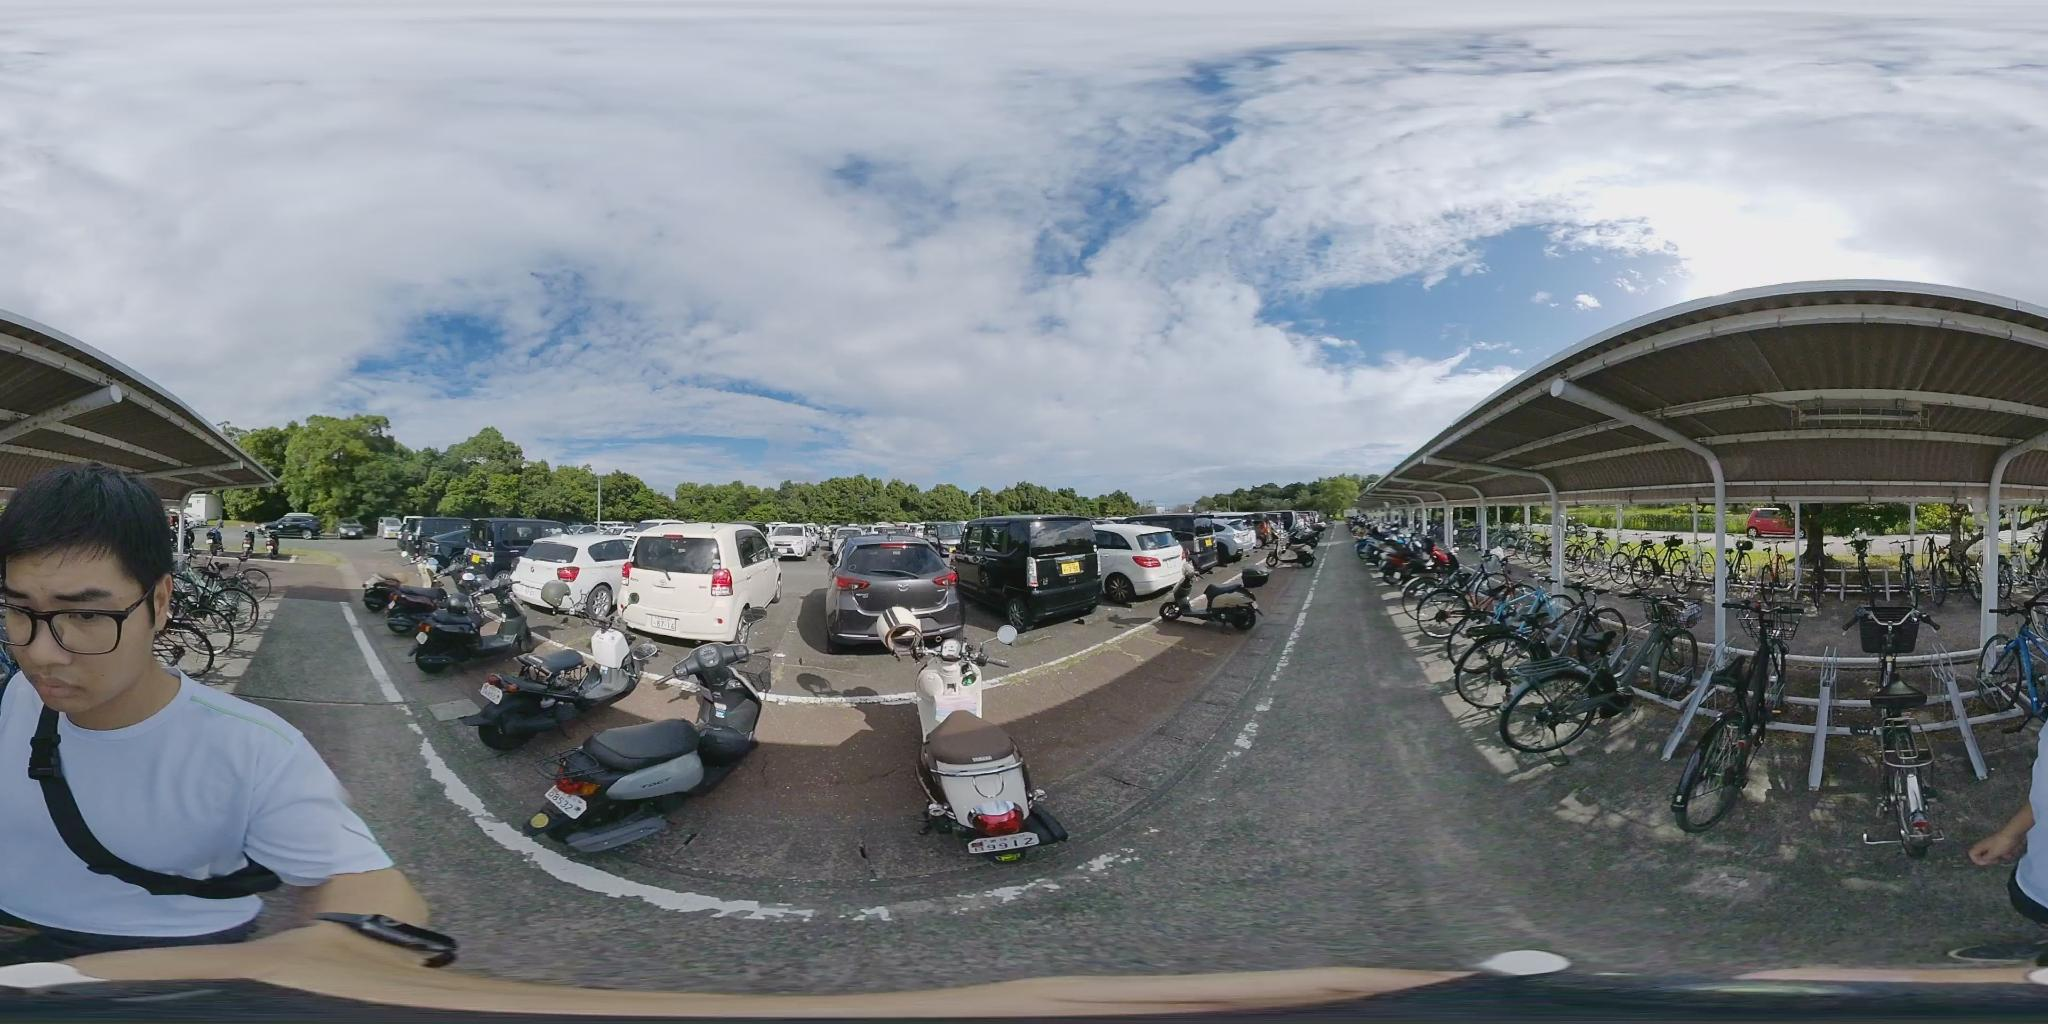car: (614, 524, 782, 643), (940, 516, 1104, 626), (818, 536, 964, 654), (515, 532, 660, 619), (765, 525, 816, 559), (274, 513, 324, 534)
